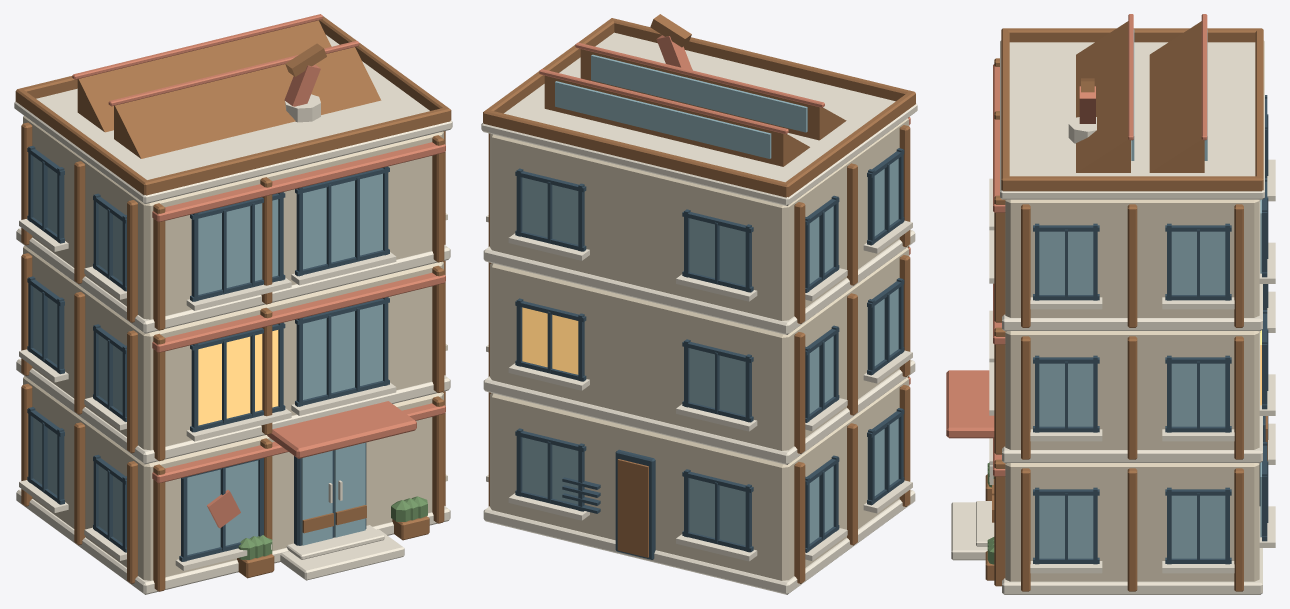
Rendered from creative-l03.glb.
3 views of the same model, side by side, from view 1: azimuth 30°, elevation 25°; view 2: azimuth 150°, elevation 25°; view 3: azimuth 270°, elevation 25° (orthographic).
Visible parts, largest first — view 1: creative_L03; view 2: creative_L03; view 3: creative_L03.
Boxes of the visible parts, x1,y1,x2,y2 form: creative_L03: (14, 14, 452, 594); creative_L03: (481, 14, 917, 594); creative_L03: (946, 14, 1275, 594).
Bounding box in the file's own units: 5.57 × 7.57 × 4.8.
